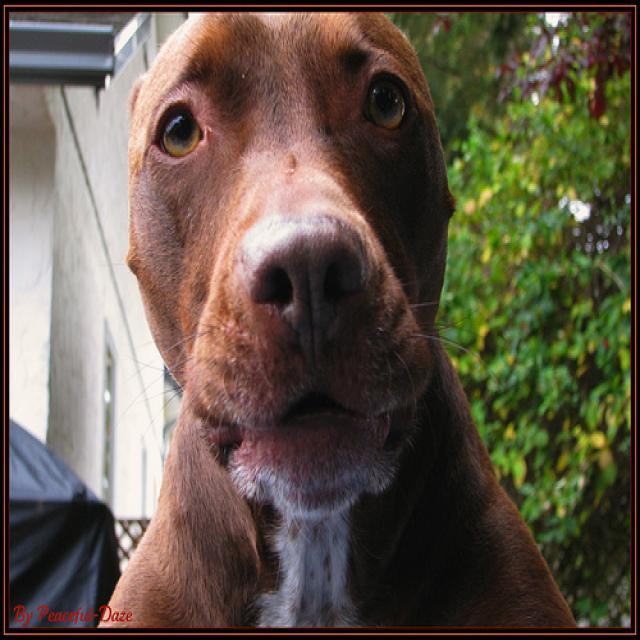dog-american_pit_bull_terrier: (84, 2, 588, 637)
